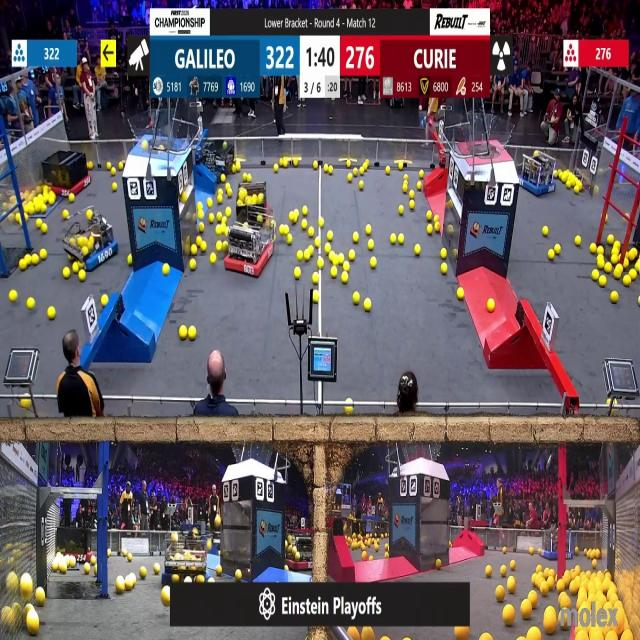ball_airborne: (456, 626, 468, 640), (346, 628, 359, 640), (362, 628, 372, 640), (214, 517, 221, 529), (141, 140, 148, 150)
ball_ground: (543, 611, 555, 636), (502, 605, 514, 626), (28, 615, 40, 636), (522, 602, 532, 619), (559, 594, 570, 609), (163, 587, 172, 605), (36, 589, 45, 607), (496, 586, 505, 602), (119, 578, 128, 594), (506, 579, 515, 594), (528, 629, 540, 639), (126, 579, 136, 591), (529, 592, 538, 605), (596, 254, 604, 268), (47, 307, 55, 320), (187, 326, 195, 339), (22, 397, 31, 408), (312, 273, 320, 285), (614, 268, 622, 280), (180, 326, 187, 339), (28, 296, 35, 309), (18, 261, 26, 272), (342, 274, 350, 285), (348, 250, 356, 261), (288, 212, 296, 223), (573, 183, 581, 194), (164, 265, 171, 277), (488, 300, 495, 312), (457, 288, 464, 300), (414, 244, 421, 256), (313, 290, 320, 302), (330, 267, 337, 279), (140, 566, 147, 578), (363, 300, 370, 312), (198, 574, 207, 583), (346, 407, 354, 417), (280, 224, 288, 234), (328, 253, 336, 263), (610, 254, 618, 264), (172, 573, 180, 583), (68, 558, 76, 568), (610, 291, 617, 302), (353, 292, 360, 303), (599, 276, 606, 287), (9, 290, 16, 301), (624, 276, 631, 287), (188, 261, 195, 272), (236, 569, 243, 580), (83, 563, 90, 574), (304, 250, 311, 261), (531, 574, 538, 585), (47, 195, 54, 206), (61, 563, 68, 574), (64, 268, 70, 280), (369, 256, 375, 268), (293, 268, 299, 280), (102, 294, 108, 306), (340, 252, 346, 264), (630, 271, 638, 280), (78, 272, 85, 282), (189, 246, 196, 256), (364, 224, 371, 234), (590, 244, 597, 254), (499, 566, 506, 576), (604, 264, 611, 274), (435, 559, 441, 570), (427, 223, 433, 234), (40, 249, 46, 260), (353, 233, 359, 244), (41, 222, 47, 233), (397, 235, 403, 246), (442, 248, 448, 259), (318, 257, 324, 268), (597, 246, 604, 255), (26, 255, 33, 264), (442, 265, 448, 275), (574, 237, 580, 247), (556, 245, 562, 255), (216, 242, 222, 252), (63, 210, 69, 220), (487, 565, 492, 577), (541, 226, 547, 236), (592, 271, 598, 281), (32, 254, 38, 264), (154, 564, 160, 574), (547, 250, 553, 260), (358, 182, 364, 192), (390, 235, 396, 245), (215, 224, 221, 234), (202, 242, 208, 252), (327, 241, 333, 251), (72, 264, 78, 274), (482, 634, 492, 640), (623, 258, 629, 268), (299, 220, 306, 228), (216, 566, 222, 575), (348, 174, 354, 183), (410, 201, 416, 210), (318, 218, 324, 227), (225, 208, 231, 217), (309, 229, 315, 238), (216, 213, 222, 222), (303, 207, 309, 216), (511, 561, 517, 570), (315, 239, 321, 248), (286, 236, 292, 245), (607, 236, 613, 245), (14, 214, 20, 223), (36, 219, 42, 228), (592, 560, 598, 569), (452, 248, 458, 257), (211, 253, 216, 263), (327, 232, 332, 242), (367, 240, 372, 250), (402, 182, 407, 192), (434, 222, 439, 232), (427, 211, 432, 221), (88, 210, 93, 220), (344, 264, 350, 272), (419, 171, 425, 179), (209, 214, 215, 222), (106, 164, 112, 172), (92, 557, 98, 565), (198, 211, 204, 219), (194, 237, 200, 245), (567, 184, 573, 192), (221, 216, 227, 224), (283, 162, 289, 170), (221, 242, 227, 250), (398, 206, 403, 215), (200, 222, 205, 231), (297, 251, 302, 260), (410, 189, 415, 198), (70, 195, 75, 204), (246, 175, 252, 182), (432, 215, 438, 222), (195, 202, 201, 209), (129, 254, 133, 264), (112, 182, 117, 190), (208, 200, 213, 208), (220, 175, 225, 183), (313, 163, 318, 171), (118, 164, 123, 172), (529, 546, 534, 554), (635, 295, 640, 303), (536, 564, 541, 572), (233, 165, 238, 173), (362, 553, 366, 562), (386, 168, 391, 175), (111, 169, 116, 176), (359, 169, 364, 176), (347, 162, 352, 169), (398, 165, 403, 172), (353, 169, 358, 176), (284, 565, 289, 572), (363, 164, 368, 171), (418, 182, 422, 190), (227, 189, 231, 197), (218, 197, 222, 205), (328, 167, 332, 175), (293, 159, 297, 167), (90, 162, 94, 170), (25, 213, 29, 221), (502, 546, 507, 552), (376, 544, 381, 550), (385, 553, 389, 560), (275, 166, 279, 173), (129, 555, 133, 562), (224, 183, 228, 190), (385, 544, 389, 550), (403, 174, 407, 180), (208, 576, 212, 582), (108, 550, 111, 557), (368, 557, 372, 562)
goal: (459, 118, 516, 158), (129, 116, 187, 152)
robot_blue: (64, 213, 120, 274), (517, 150, 555, 198), (199, 137, 238, 176)
robot_red: (226, 205, 276, 278), (43, 147, 91, 197), (164, 530, 208, 582), (283, 535, 312, 573)
